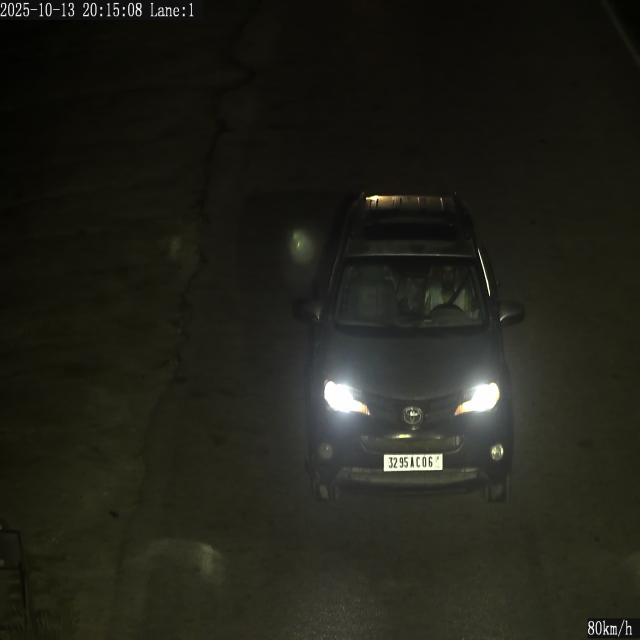BUS: (384, 454, 442, 471)
